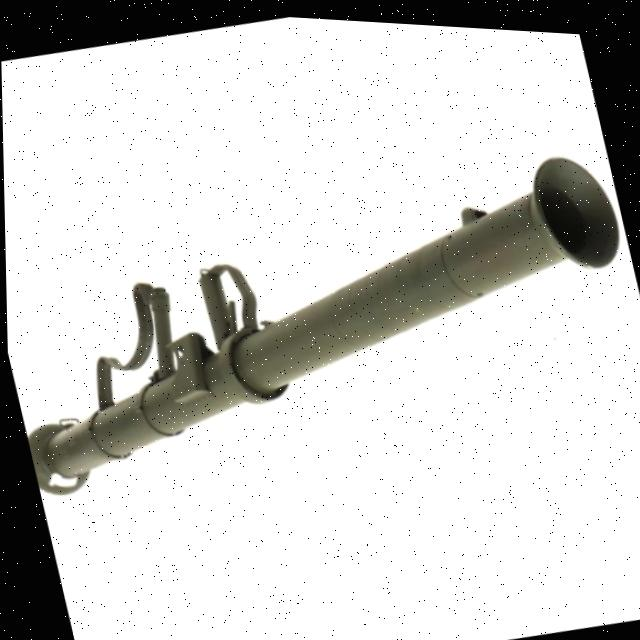rocket: (2, 99, 640, 551)
